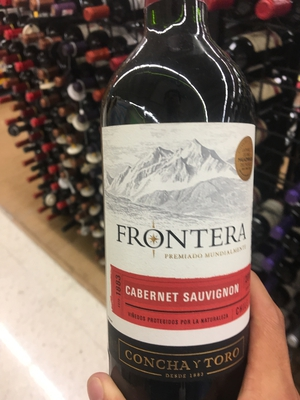frontera cabernet sauvignon: (98, 15, 255, 400)
